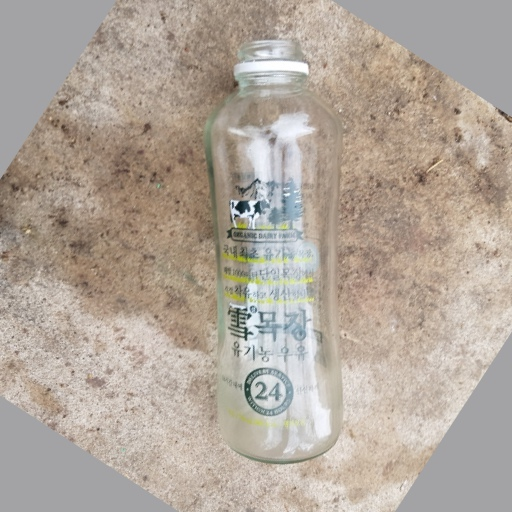Glass_4: (205, 36, 351, 471)
